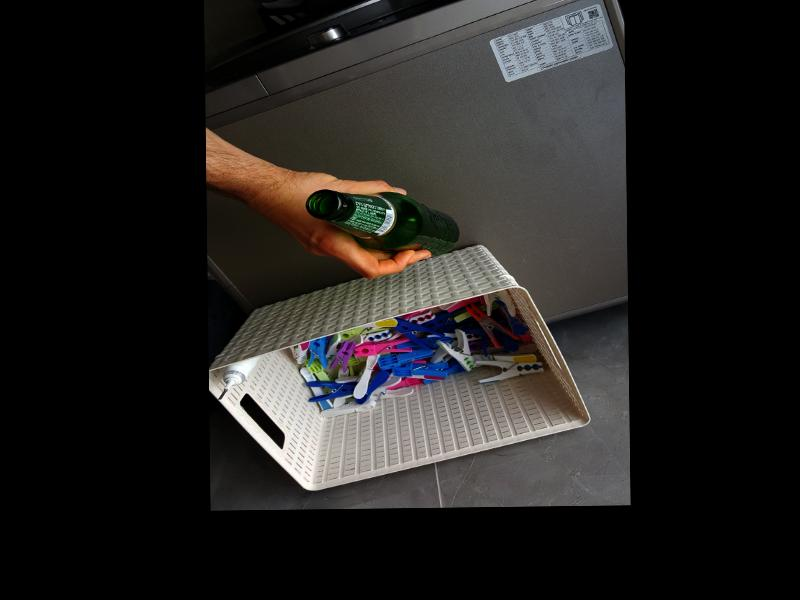Beer: (306, 187, 458, 260)
